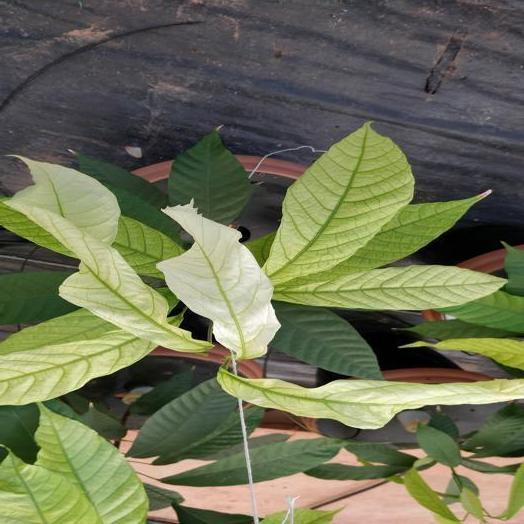Healthy Leaf: (78, 155, 178, 238), (270, 303, 382, 377), (130, 378, 235, 456), (168, 130, 251, 224), (0, 272, 77, 324), (250, 438, 340, 481), (168, 411, 241, 459), (162, 450, 247, 486), (417, 425, 460, 466), (503, 243, 523, 295), (246, 407, 263, 434)
Iron: (18, 205, 210, 351), (263, 123, 413, 291), (157, 201, 279, 358), (218, 367, 523, 428), (36, 405, 148, 523), (332, 193, 485, 275), (1, 330, 153, 404), (275, 265, 503, 309), (8, 157, 120, 244), (0, 453, 99, 523), (0, 309, 116, 352), (113, 216, 181, 278), (440, 291, 523, 331), (429, 339, 523, 369)
